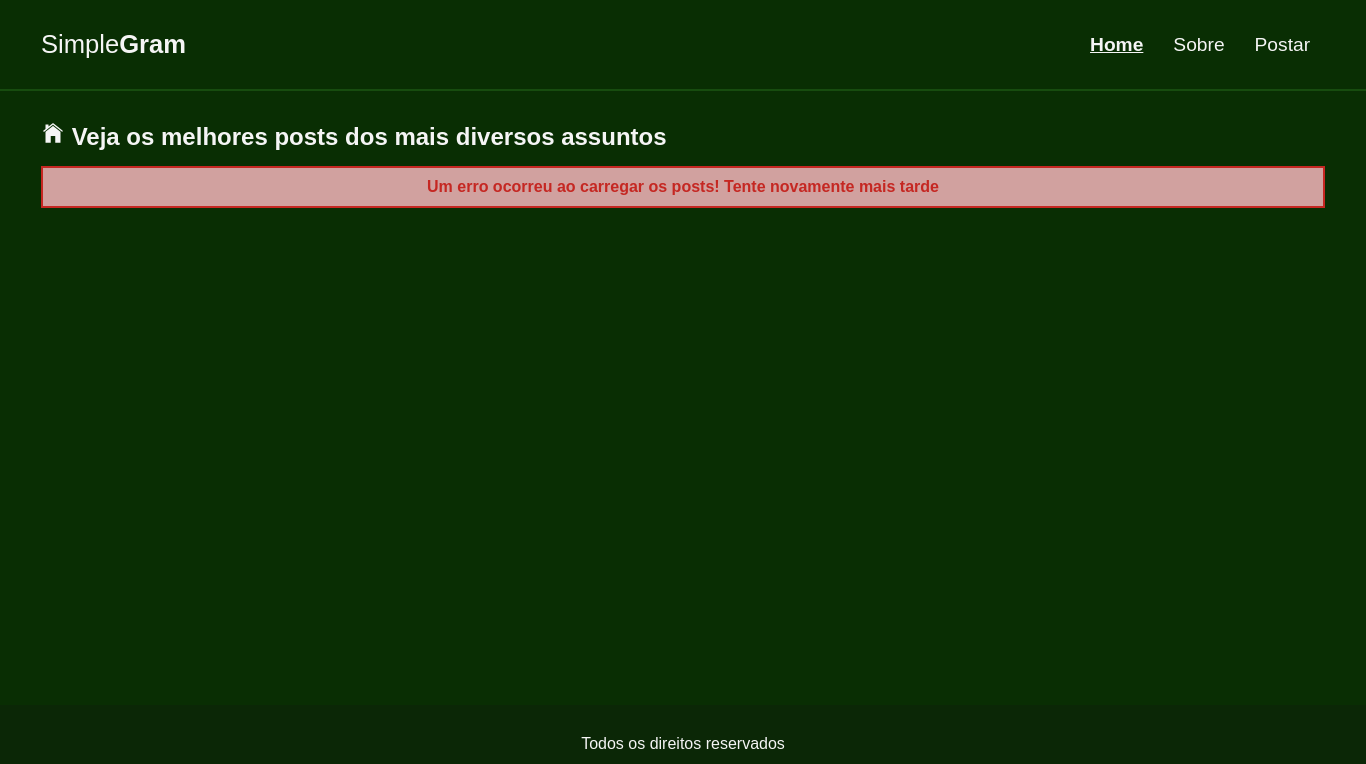
Test: CreatePost Page › should show error for invalid image link
Click the link to "/posts/create".
click(1283, 45)  # box x1=1255 y1=34 x2=1311 y2=55
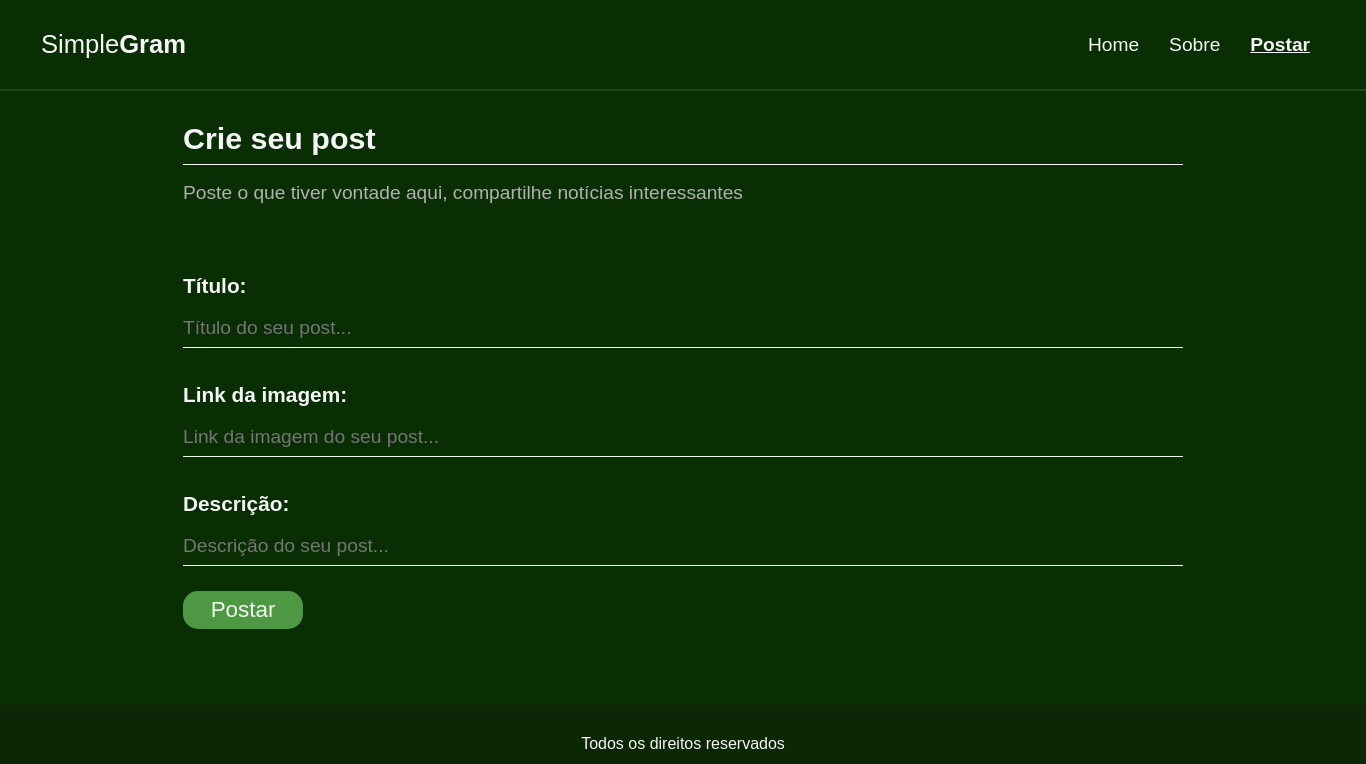
Type "Post de test" into the field with id "title".
click(683, 328); type("Post de test")  # box x1=183 y1=308 x2=1183 y2=348
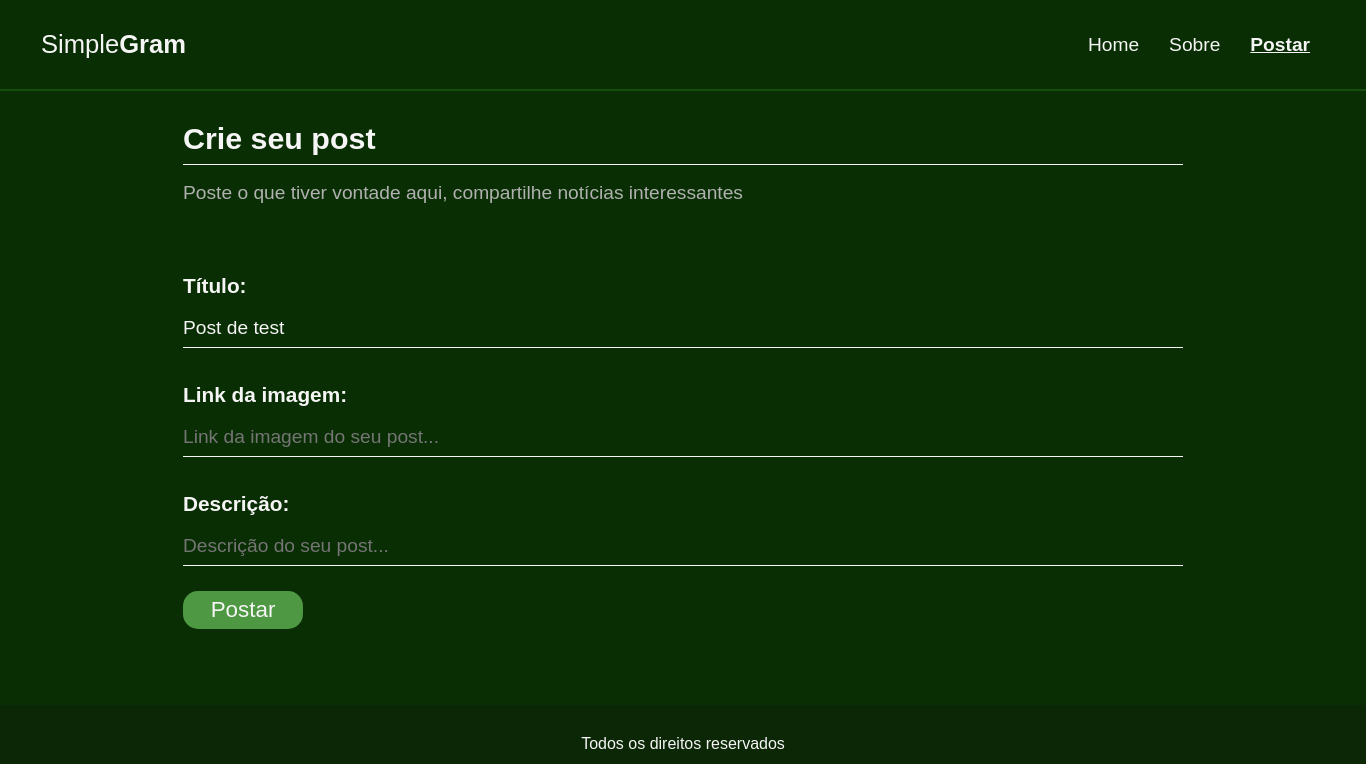
Type "post.imageURL" into the field with id "imageUrl".
click(683, 437); type("post.imageURL")  # box x1=183 y1=417 x2=1183 y2=457
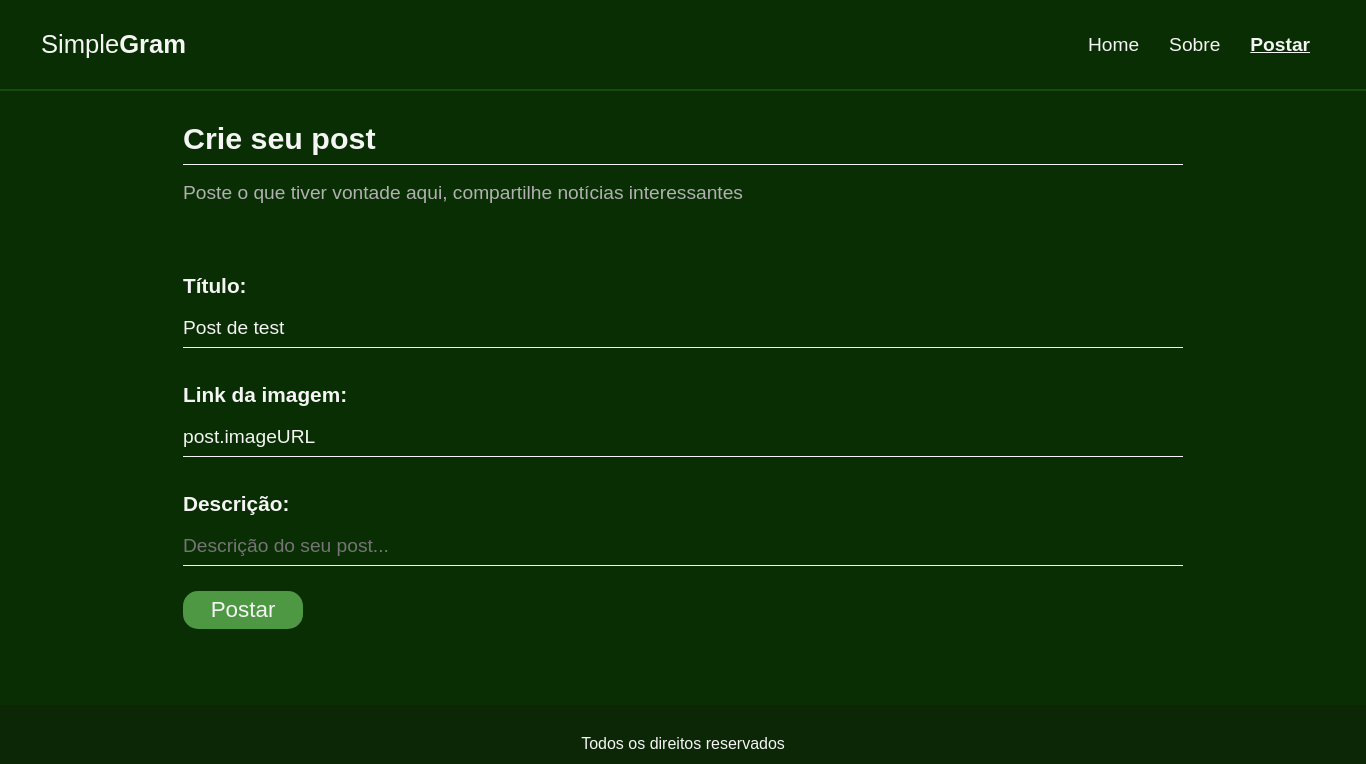
Type "Teste de descrição sobre a vida" into the field with id "description".
click(683, 546); type("Teste de descrição sobre a vida")  # box x1=183 y1=526 x2=1183 y2=566
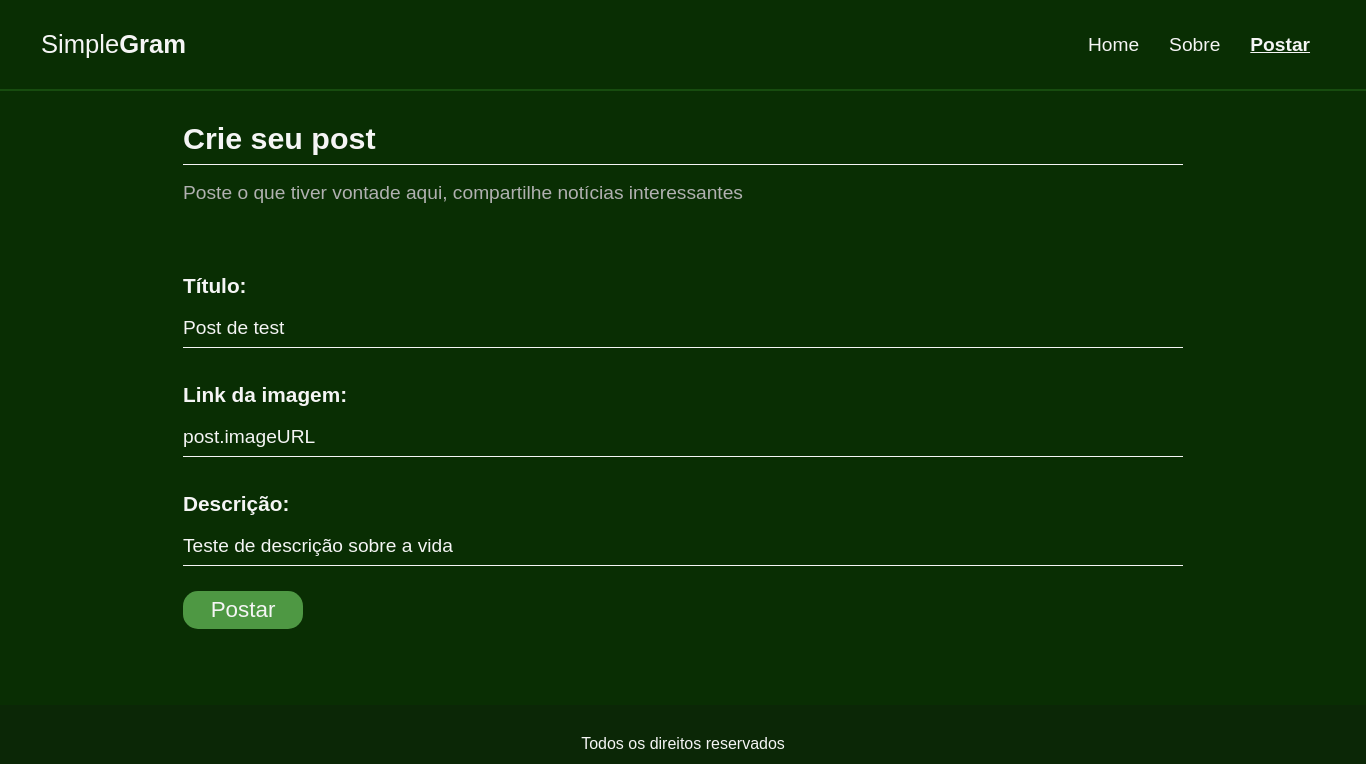
Click the button "Postar".
click(243, 610)  # box x1=183 y1=591 x2=303 y2=629
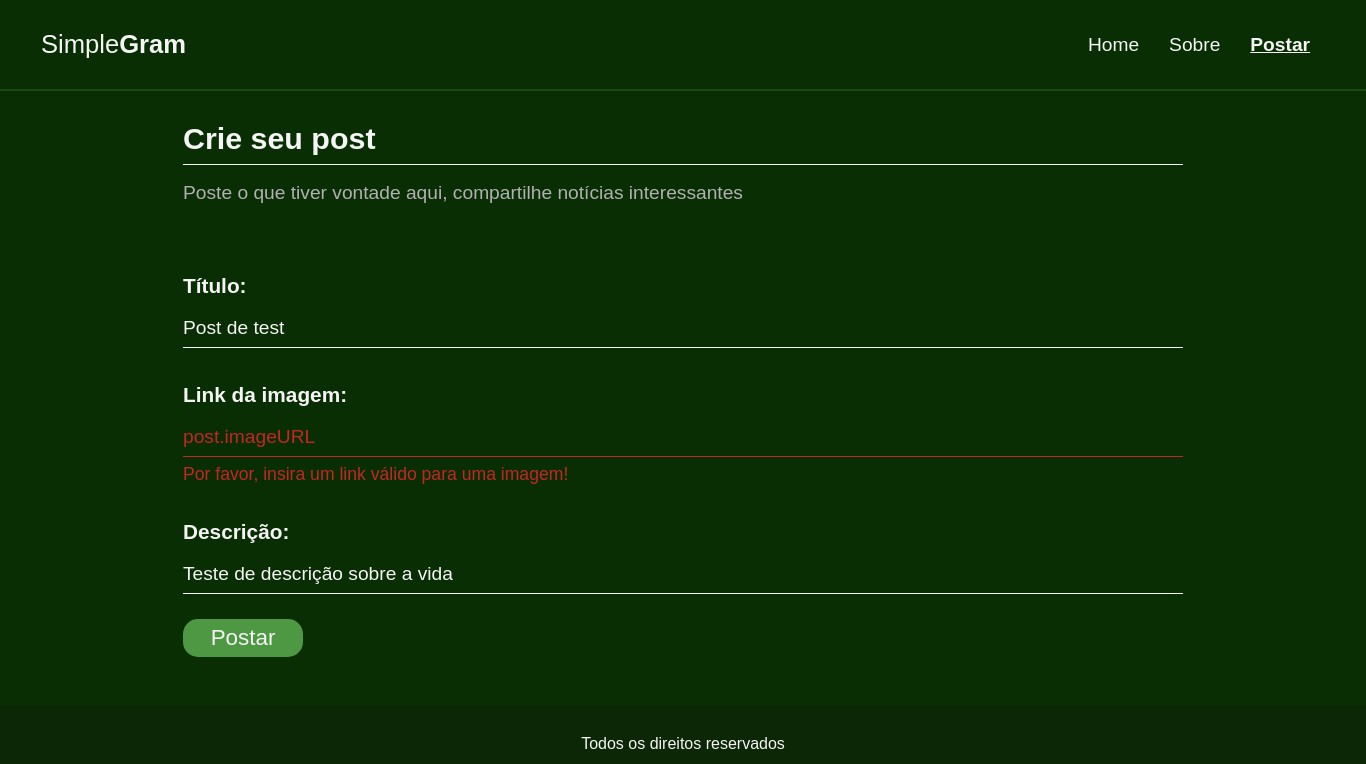
Check: the text "Por favor, insira um link válido para uma imagem!" is shown, box x1=183 y1=464 x2=568 y2=484
